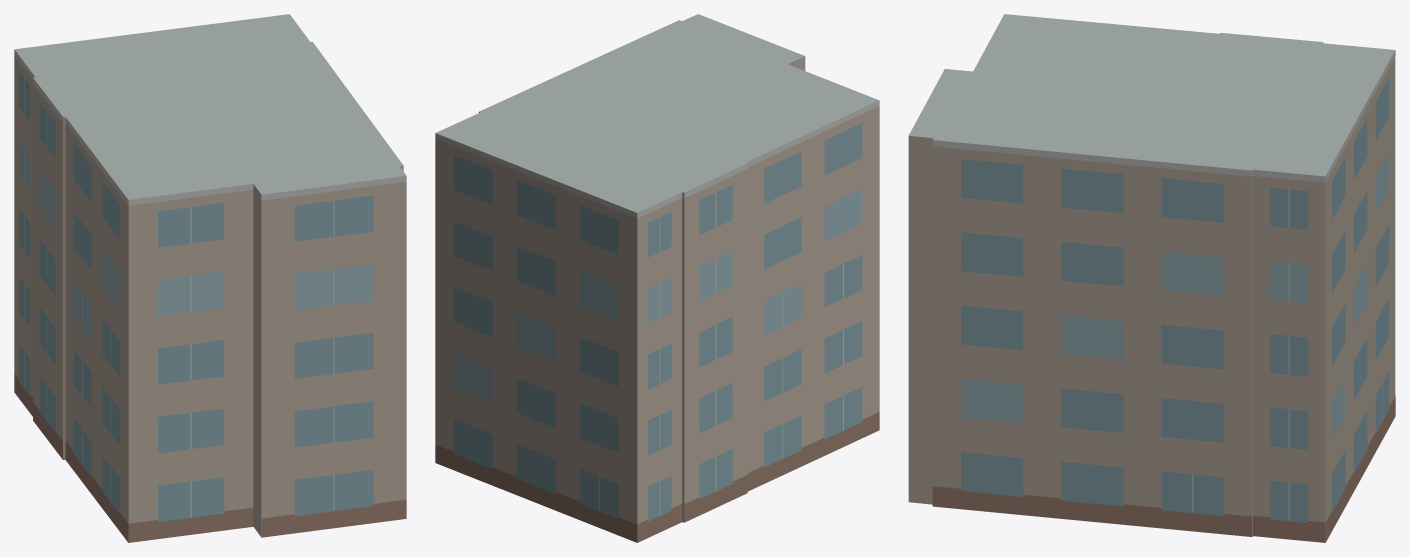
File: survey-upis-32923655.glb
3 views of the same model, side by side, from view 1: azimuth 30°, elevation 25°; view 2: azimuth 150°, elevation 25°; view 3: azimuth 270°, elevation 25° (orthographic). The views are drawn at different scales.
Visible parts, largest first — view 1: survey-upis-32923655.tmp; view 2: survey-upis-32923655.tmp; view 3: survey-upis-32923655.tmp.
Part boxes in pixels (<box>): survey-upis-32923655.tmp: <box>14,14,406,542</box>; survey-upis-32923655.tmp: <box>435,14,879,542</box>; survey-upis-32923655.tmp: <box>908,14,1395,542</box>.
Size of the model in its own units: 13.56 by 14.25 by 17.17.
